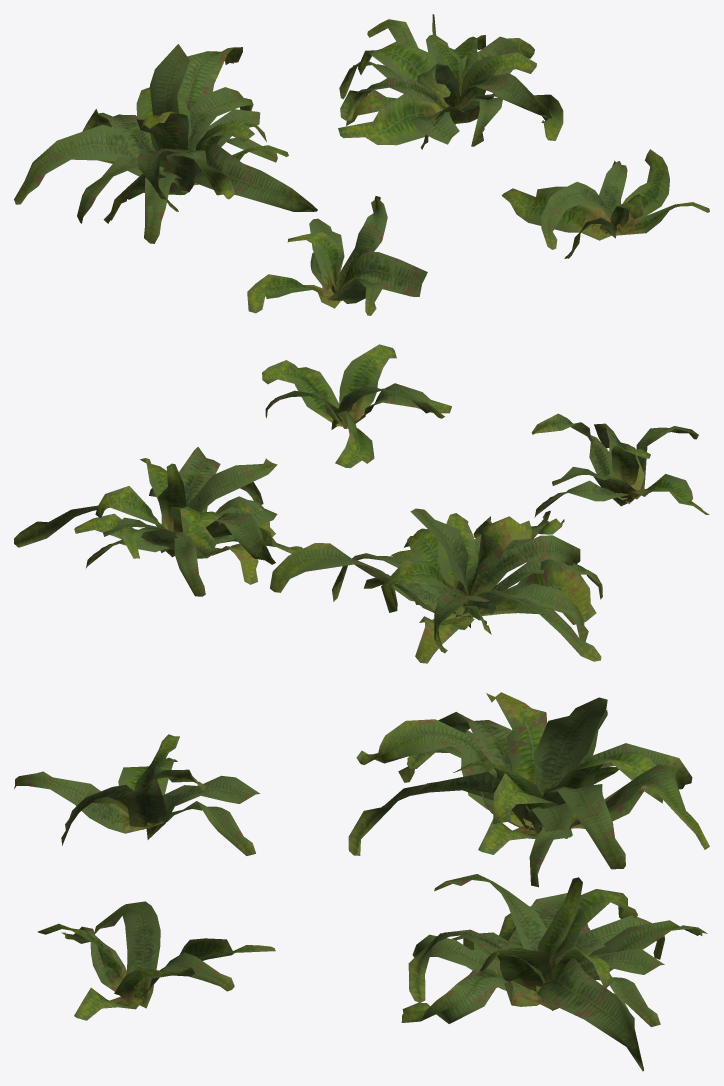
The model's file is fern_lod.glb.
3 renders of one model, top to bottom at view 1: azimuth 30°, elevation 25°; view 2: azimuth 150°, elevation 25°; view 3: azimuth 270°, elevation 25°, orthographic. The views are drawn at different scales.
Visible parts, largest first — view 1: fern_02_b, fern_02_c, fern_02_d, fern_02_a; view 2: fern_02_b, fern_02_c, fern_02_d, fern_02_a; view 3: fern_02_b, fern_02_c, fern_02_a, fern_02_d.
Part boxes in pixels (x1=…): fern_02_b: x1=14, y1=44, x2=317, y2=243; fern_02_c: x1=338, y1=14, x2=563, y2=149; fern_02_d: x1=501, y1=149, x2=709, y2=258; fern_02_a: x1=247, y1=196, x2=427, y2=315; fern_02_b: x1=270, y1=508, x2=602, y2=663; fern_02_c: x1=14, y1=447, x2=302, y2=596; fern_02_d: x1=262, y1=344, x2=451, y2=468; fern_02_a: x1=531, y1=413, x2=709, y2=517; fern_02_b: x1=348, y1=692, x2=709, y2=887; fern_02_c: x1=401, y1=874, x2=707, y2=1071; fern_02_a: x1=14, y1=734, x2=260, y2=855; fern_02_d: x1=37, y1=901, x2=275, y2=1020.
Bounding box in the file's own units: 1.97 × 0.4277 × 1.72.
Materials: 1 (1 with a texture image).
